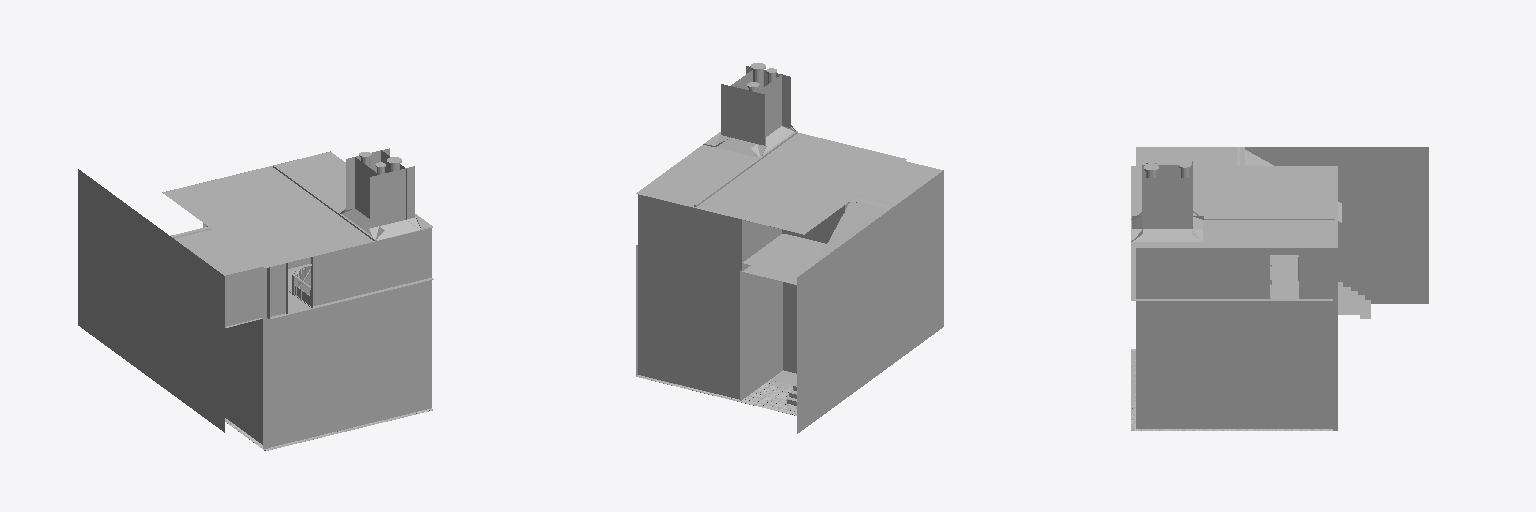
3 views of the same model, side by side, from view 1: azimuth 30°, elevation 25°; view 2: azimuth 150°, elevation 25°; view 3: azimuth 270°, elevation 25° (orthographic).
Size of the model in its own units: 1592 by 1836 by 1984.
Materials: 13 (1 with a texture image).